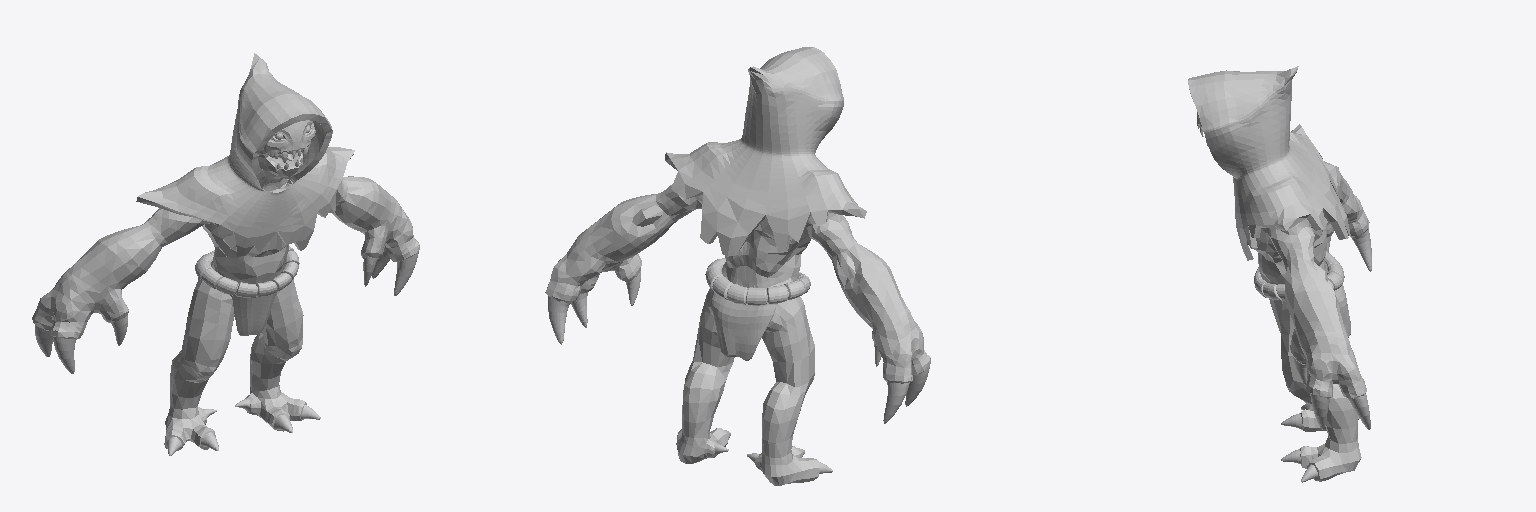
File: RavagerCGDance1.obj
3 renders of one model, left to right at view 1: azimuth 30°, elevation 25°; view 2: azimuth 150°, elevation 25°; view 3: azimuth 270°, elevation 25°, orthographic.
Parts seen in each view (by area): view 1: hood_Cube.001; view 2: hood_Cube.001; view 3: hood_Cube.001.
Part boxes in pixels (left/top/right/bottom): hood_Cube.001: left=32, top=53, right=419, bottom=455; hood_Cube.001: left=545, top=47, right=930, bottom=485; hood_Cube.001: left=1188, top=66, right=1371, bottom=482.
Size of the model in its own units: 0.9889 by 1 by 0.4316.